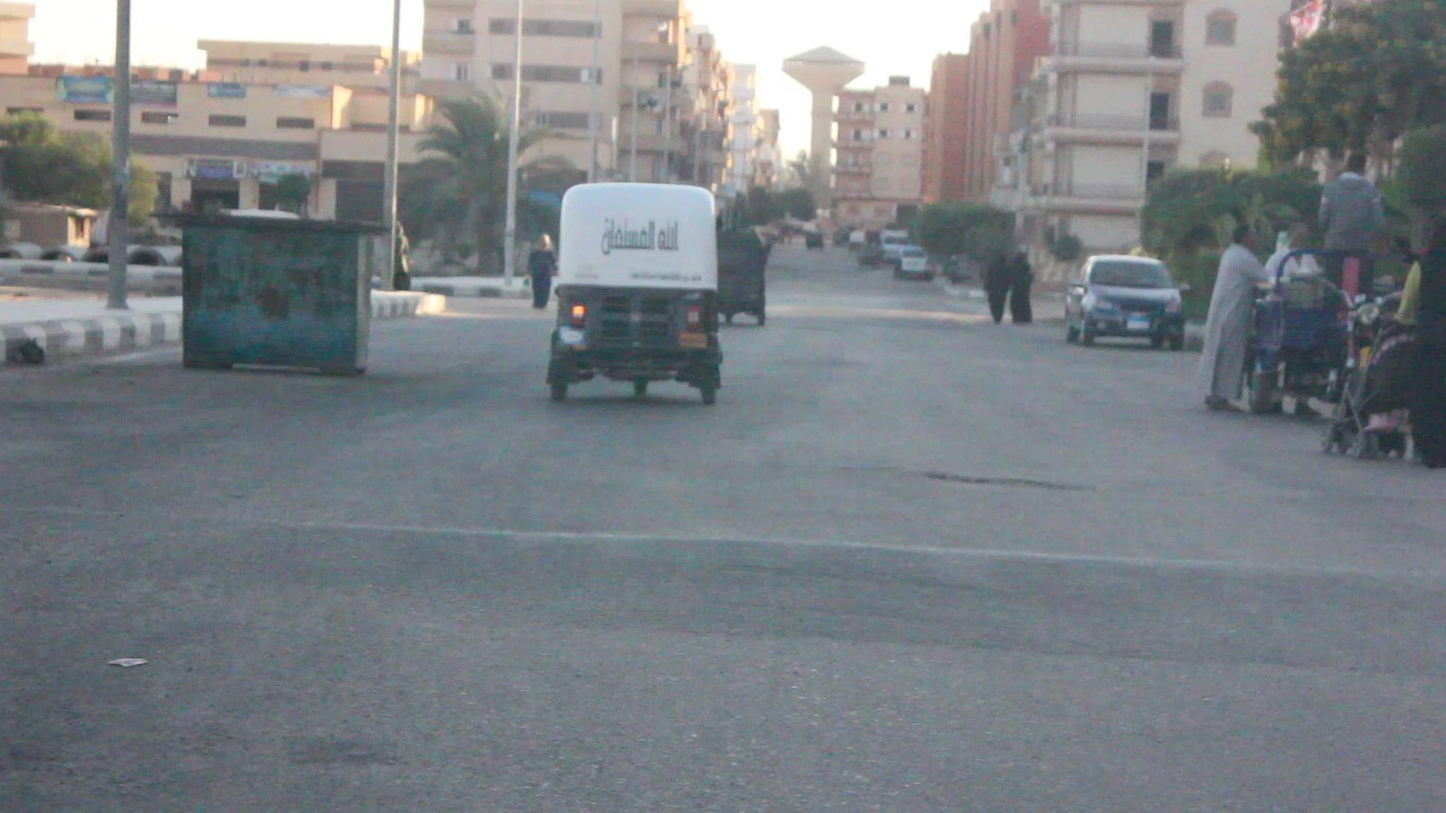Bump: (0, 517, 1445, 698)
